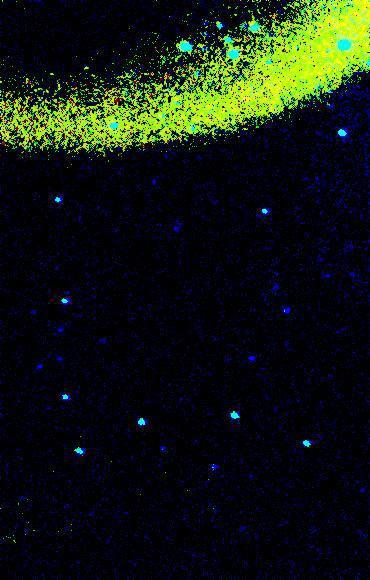star: (150, 430, 180, 460)
